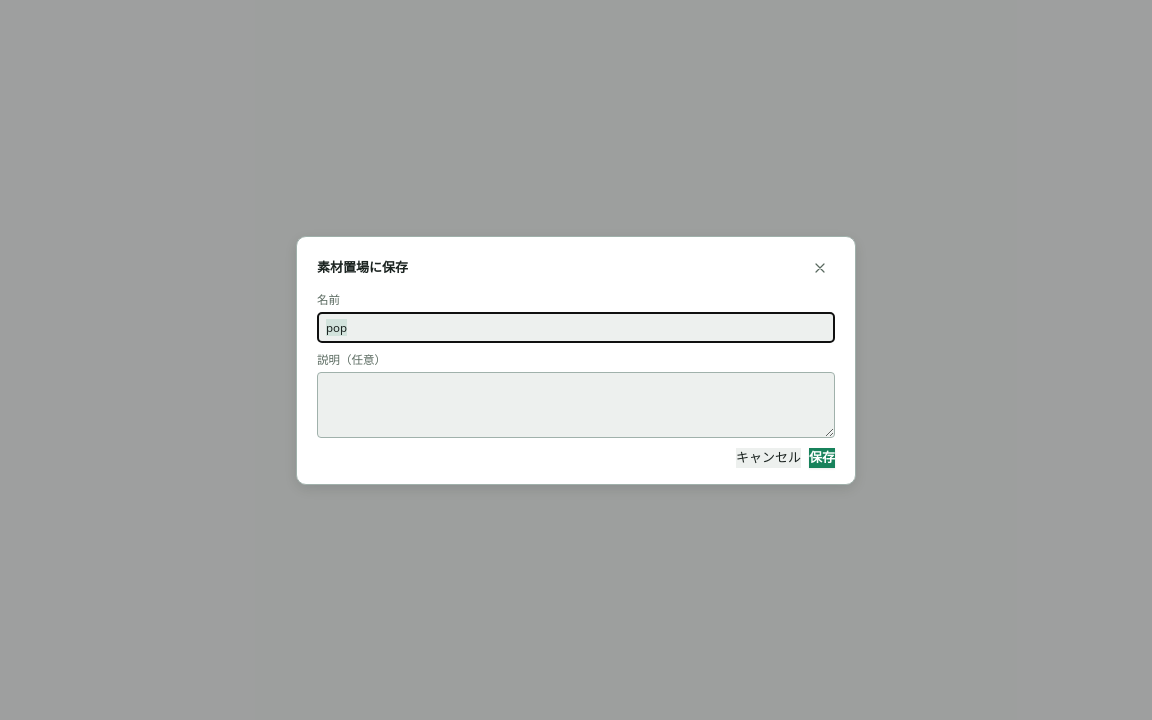
shows the server message on failure and stays open
Click the button "保存".
click(822, 458)  # box [809,448,835,468]
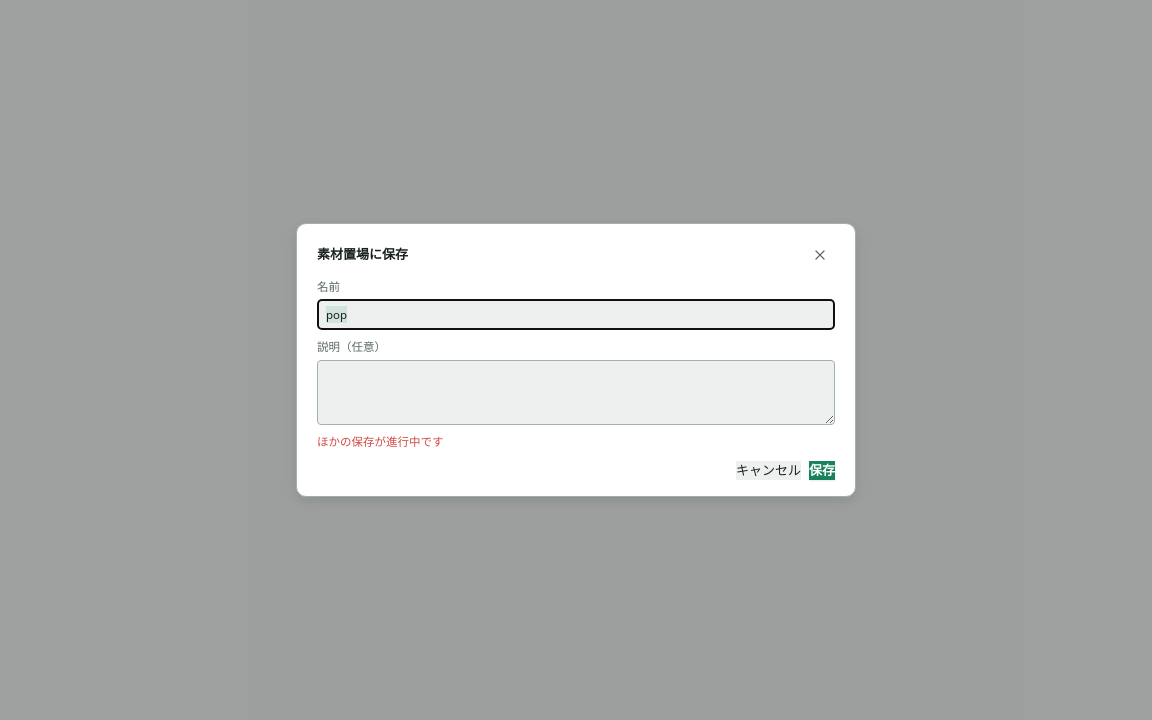
Expected: the button "保存" is enabled, [809,461,835,480]
Result: the message reads "ほかの保存が進行中です" at [317,434,444,449]
